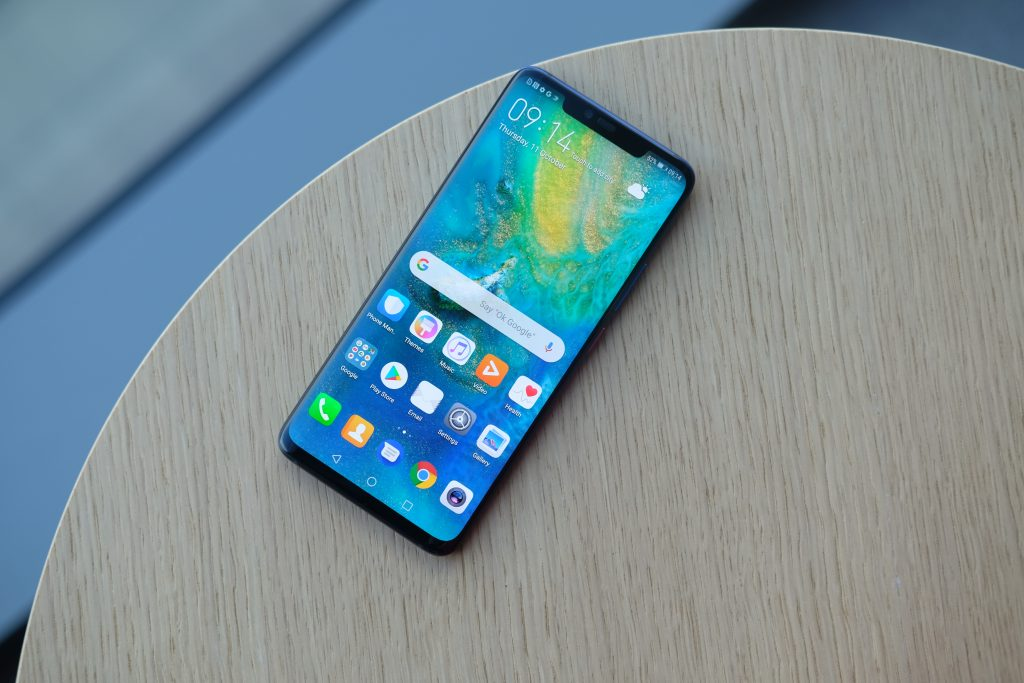phone: (275, 57, 706, 567)
